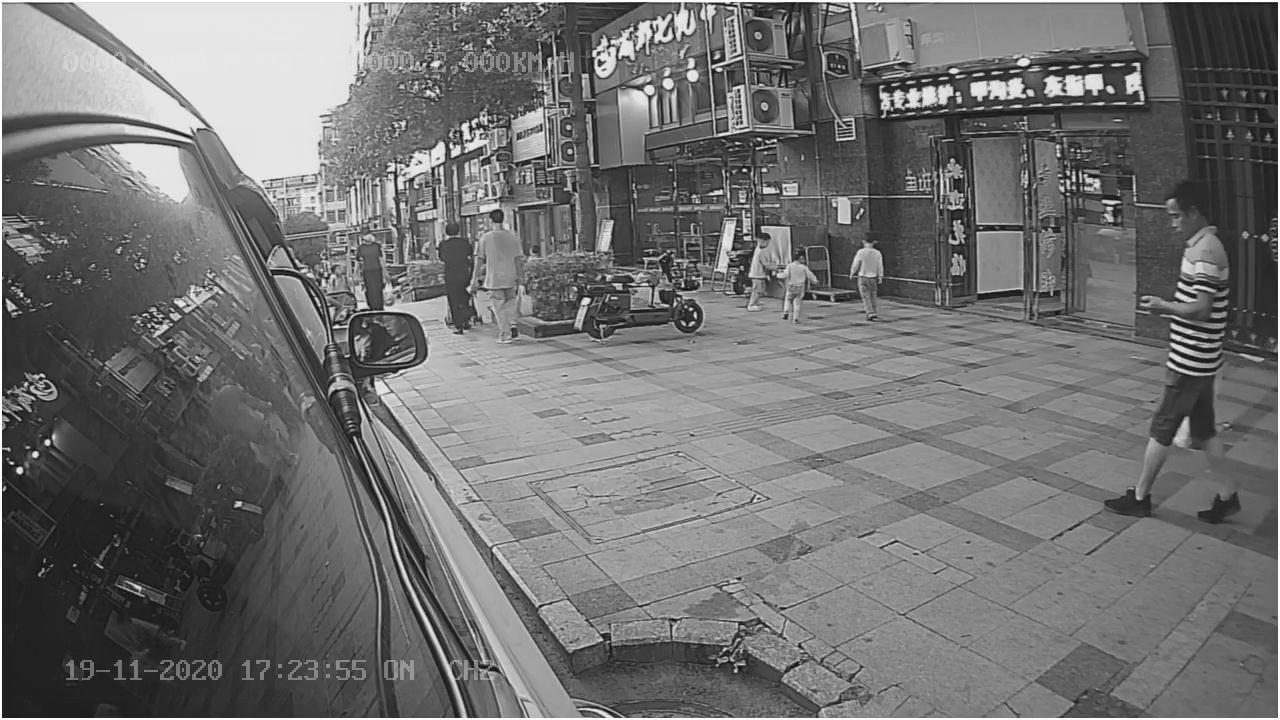person: (1091, 184, 1247, 530), (464, 205, 527, 347), (435, 220, 480, 334), (843, 230, 890, 321), (777, 247, 822, 330)
